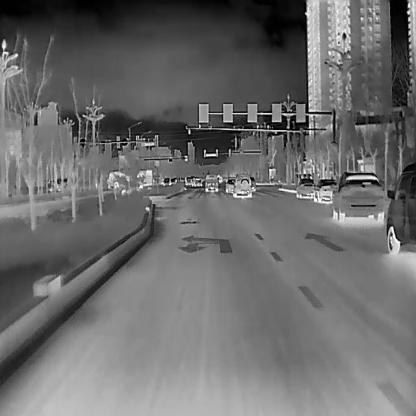bus: (107, 167, 152, 190)
car: (386, 162, 416, 252), (331, 171, 383, 220), (313, 178, 336, 201), (230, 172, 249, 194), (295, 177, 315, 197), (225, 176, 235, 192), (249, 176, 255, 190)
truck: (204, 173, 217, 191)
